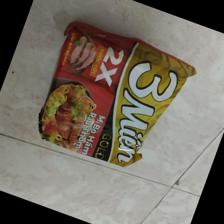3mien: (37, 20, 198, 169)
